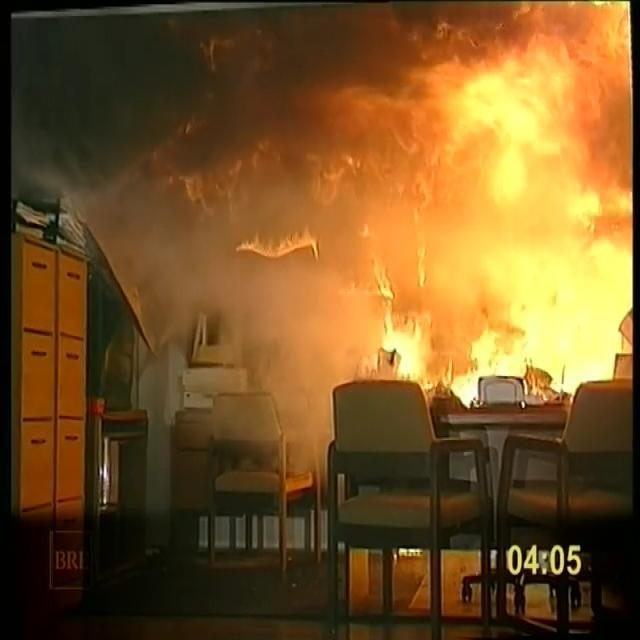Fire: (203, 24, 614, 498)
